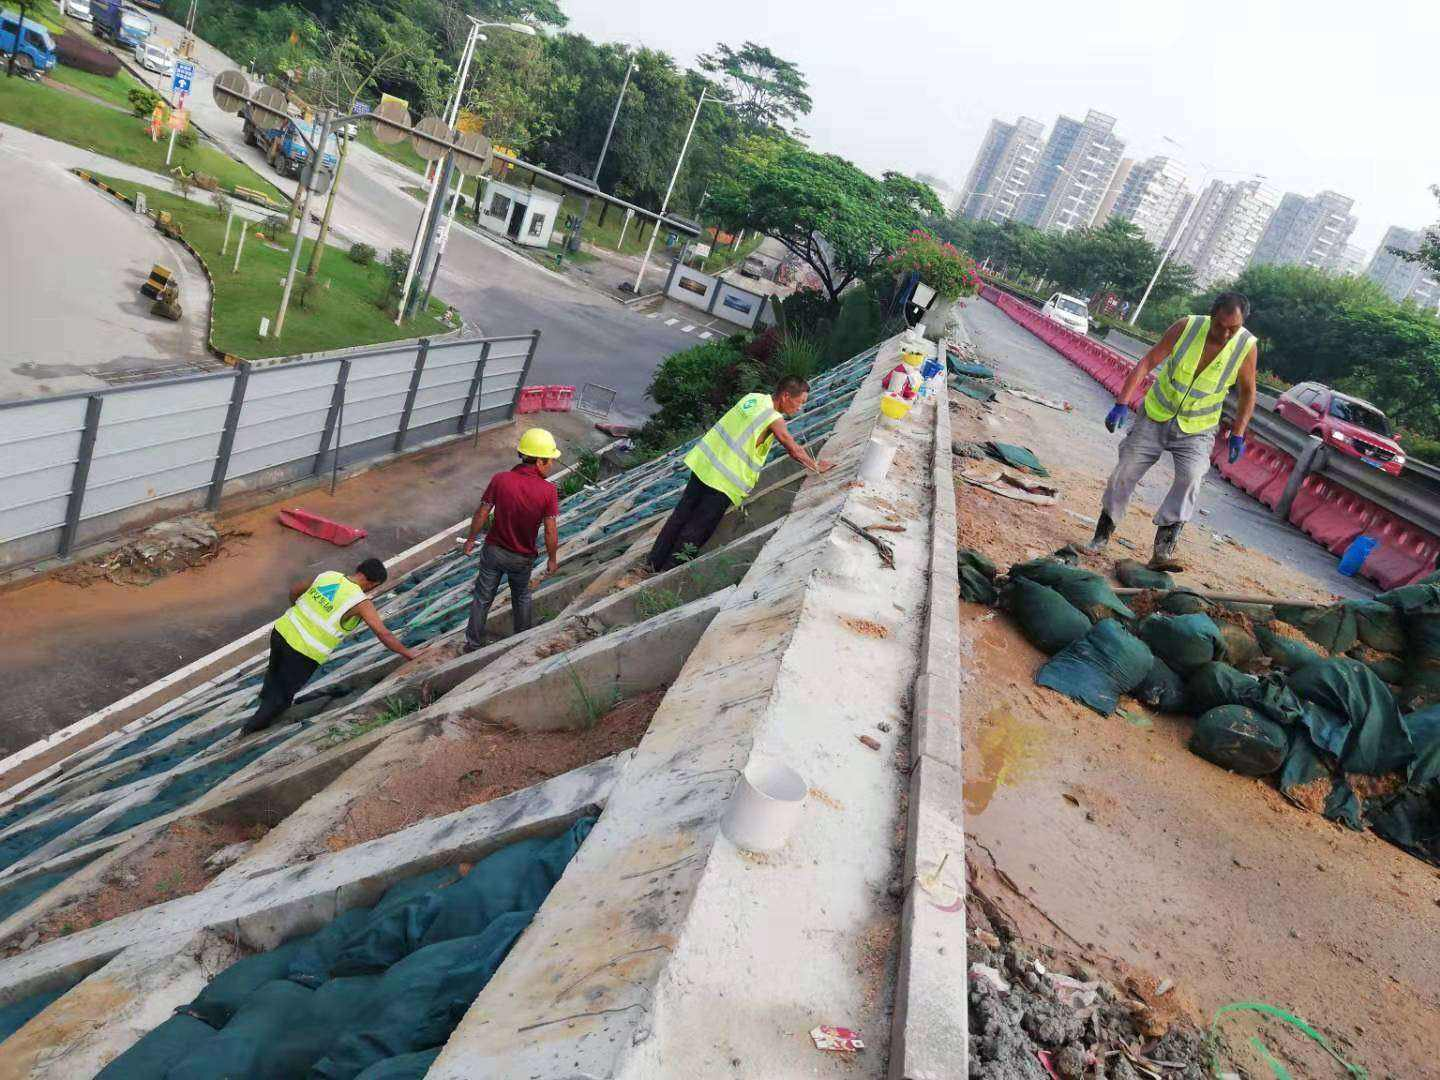head: (1209, 289, 1250, 345), (774, 371, 812, 418), (351, 555, 390, 592)
ordinary_clothes: (485, 469, 559, 558)
person: (1079, 285, 1260, 573), (638, 370, 839, 577), (237, 555, 430, 741), (457, 425, 562, 654)
reflective_vest: (1142, 315, 1259, 433), (681, 390, 783, 508), (271, 569, 371, 664)
safety_helmet: (514, 426, 562, 477)
